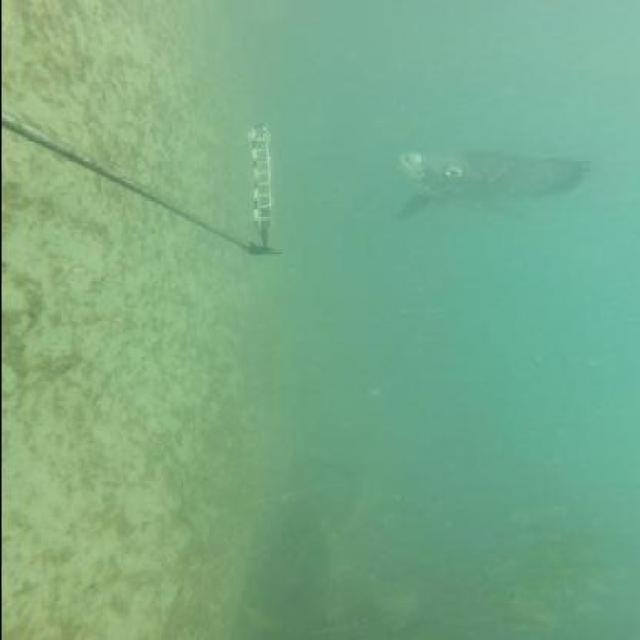acanthopagrus_palmaris: (385, 150, 592, 224)
